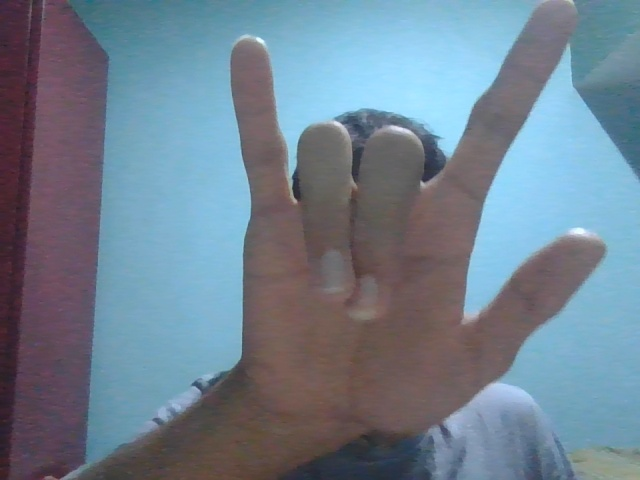i love you: (205, 1, 615, 432)
